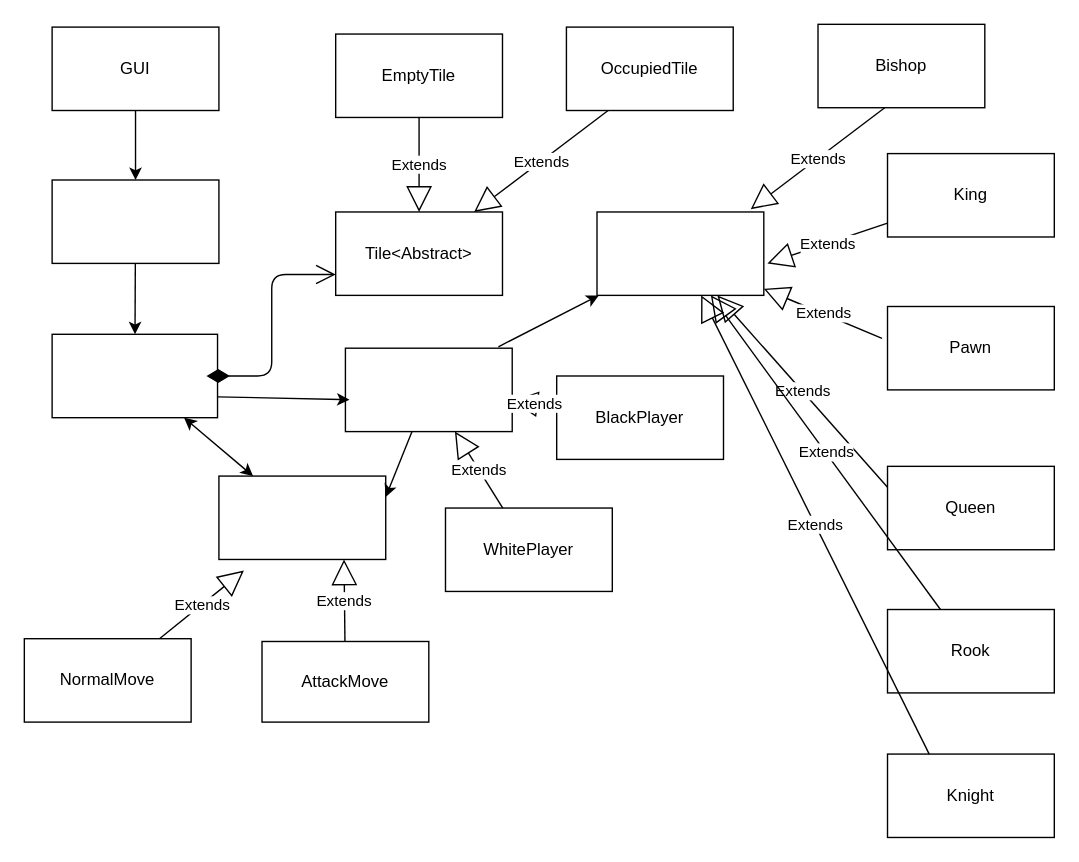
Image size: 1079x862. Some labels were removed from this diagram. The shapes that lost their labels are listed below. From the top down, each one's centre as x and y in pixels, then its label:
At point 135,221: "BoardBuilder".
At point 680,253: "Pieces<Abstract>".
At point 134,375: "Board".
At point 428,389: "Player<Abstract>".
At point 302,517: "Move<Abstract>".
